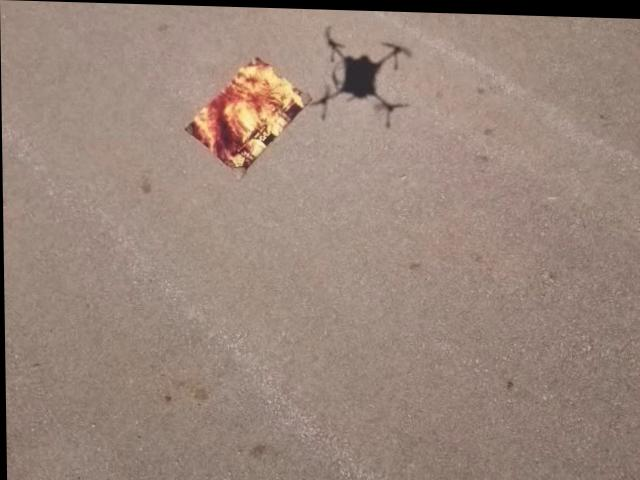fire-poster: (182, 51, 313, 179)
